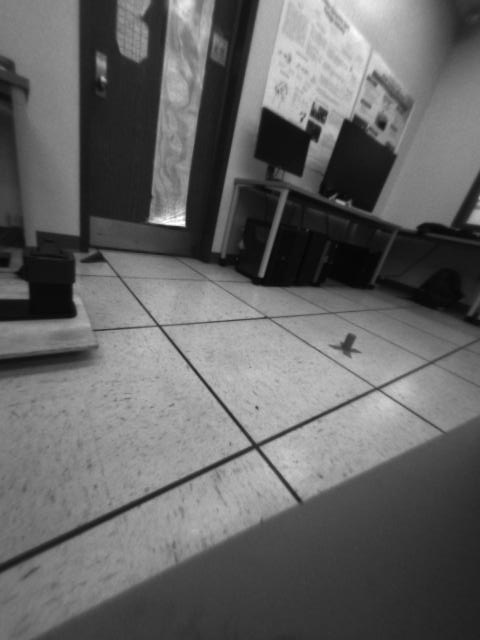X: (328, 330, 364, 358)
